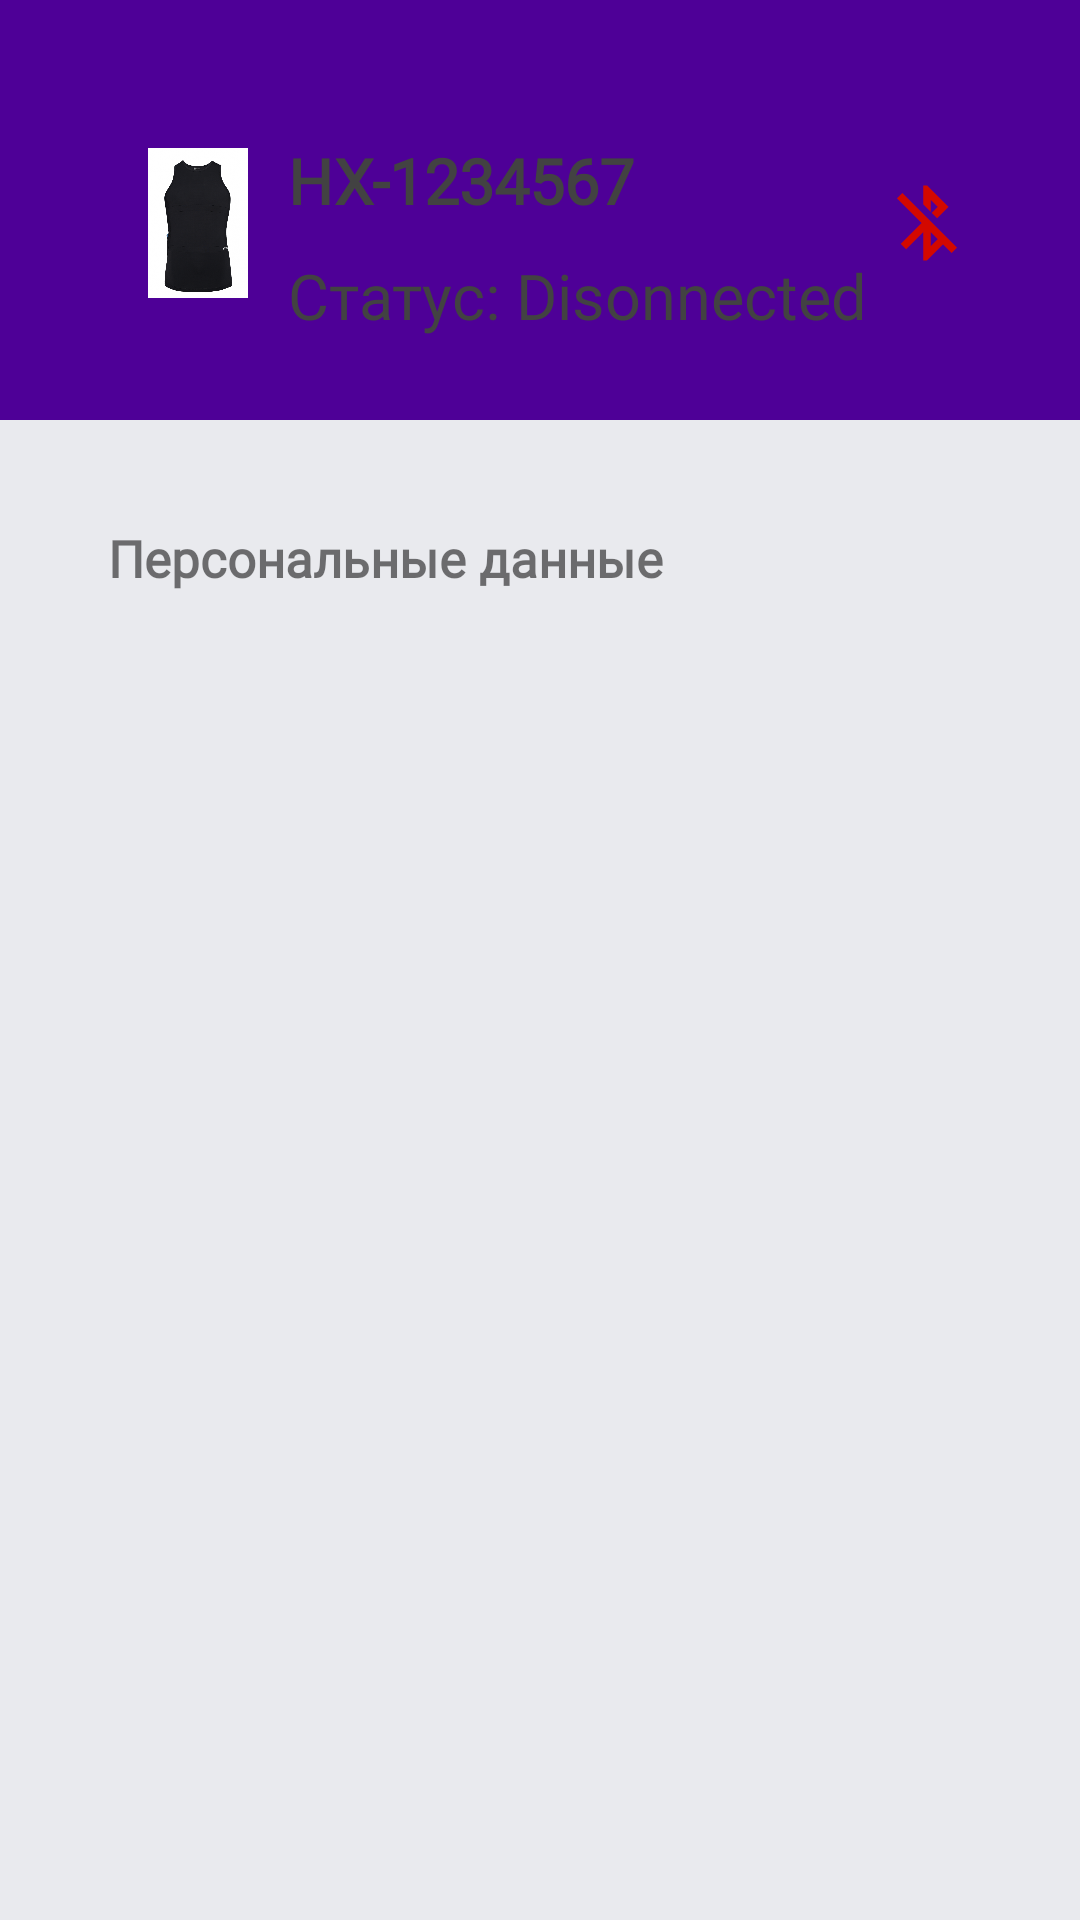

Locate icon controls on the screen. Image size 1080px×1920px, boxes as (x1=x1, y1=y1, x2=x2, y2=y2).
hexoskin: (x1=148, y1=148, x2=248, y2=298)
